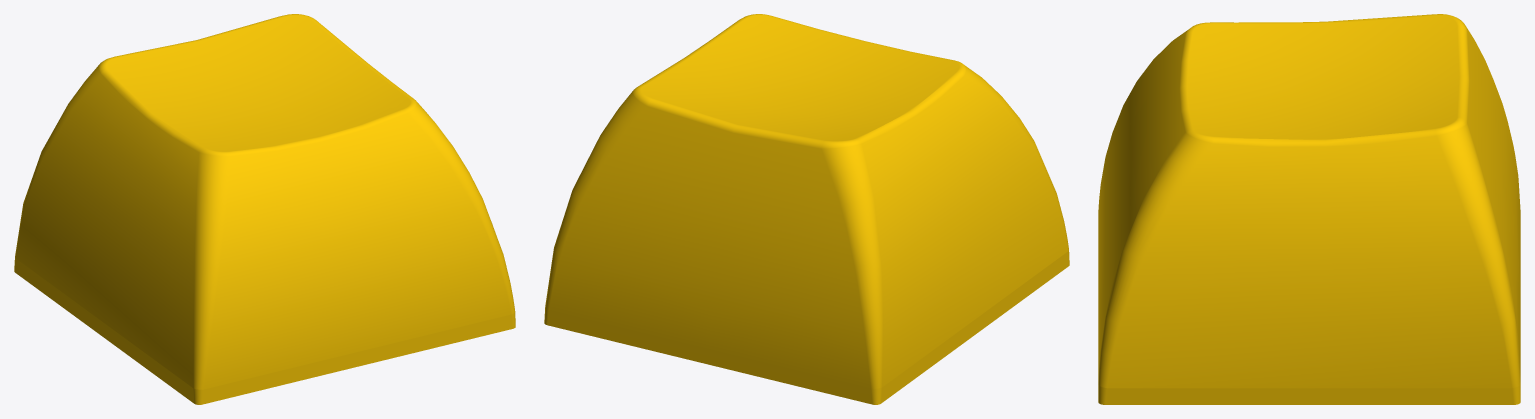
File: KAT_1u_r1.glb
The picture shows the model from 3 angles, left to right: view 1: azimuth 30°, elevation 25°; view 2: azimuth 150°, elevation 25°; view 3: azimuth 270°, elevation 25°; orthographic projection. The views are drawn at different scales.
Parts seen in each view (by area): view 1: Object.005; view 2: Object.005; view 3: Object.005.
Boxes of the visible parts, <box> form: Object.005: <box>14,14,515,404</box>; Object.005: <box>544,14,1069,404</box>; Object.005: <box>1098,14,1520,404</box>.
Bounding box in the file's own units: 18.2 × 11.65 × 18.2.
